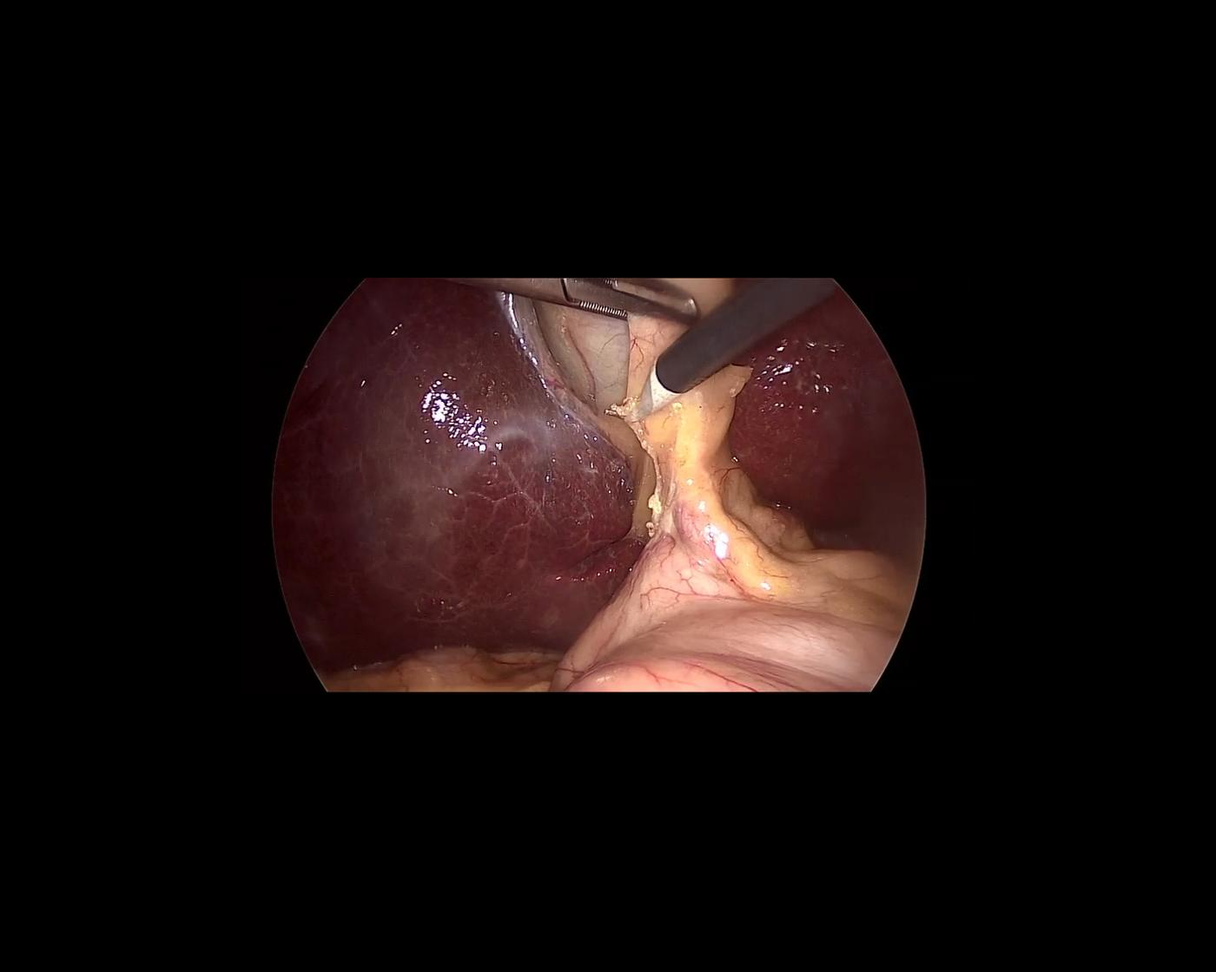Cautery: (590, 241, 838, 440)
Forceps: (445, 246, 703, 330)
Gallbladder: (497, 273, 761, 549)
Liver: (253, 258, 650, 674), (686, 285, 953, 566)
